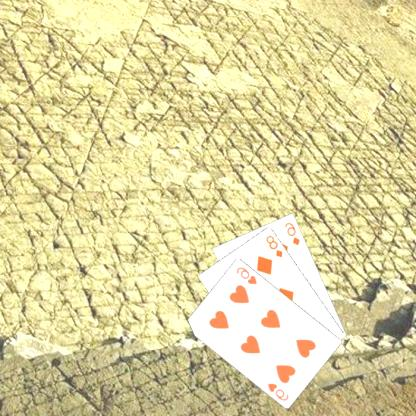6D: (284, 219, 303, 247)
6H: (267, 380, 292, 402), (236, 264, 260, 285)
8D: (265, 232, 286, 259)
